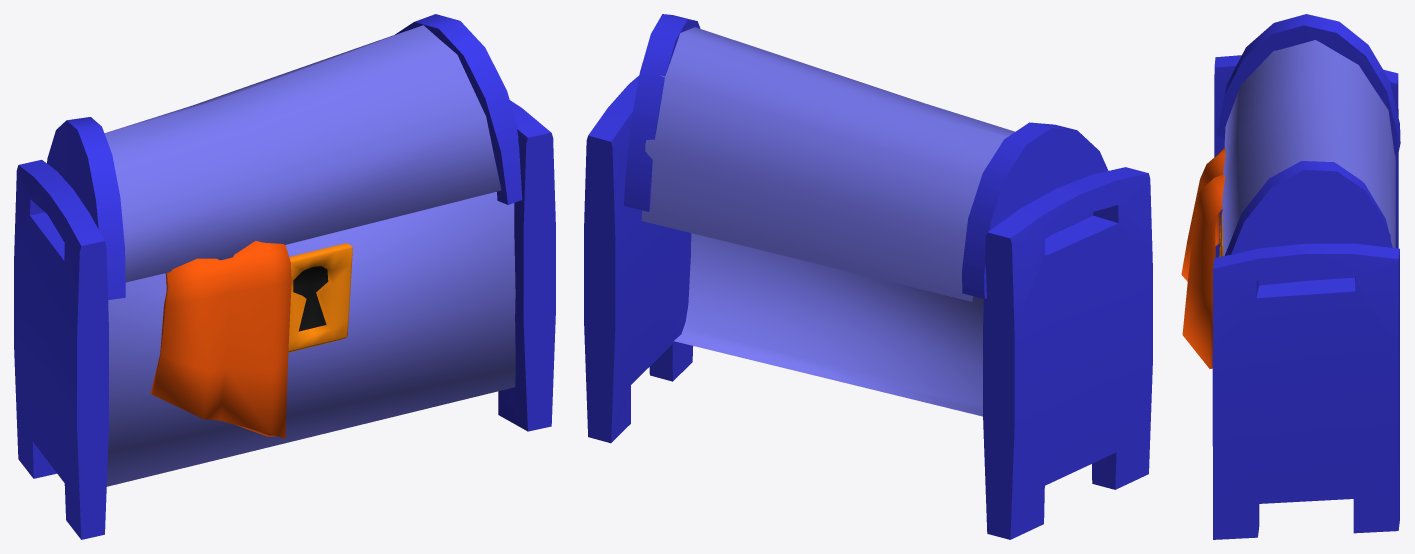
The model's file is chestclosed.FBX.
The picture shows the model from 3 angles, left to right: view 1: azimuth 30°, elevation 25°; view 2: azimuth 150°, elevation 25°; view 3: azimuth 270°, elevation 25°; orthographic projection. The views are drawn at different scales.
Parts seen in each view (by area): view 1: chestclosed; view 2: chestclosed; view 3: chestclosed.
Part boxes in pixels (bbox=[...]): chestclosed: bbox=[14, 14, 555, 539]; chestclosed: bbox=[584, 14, 1152, 539]; chestclosed: bbox=[1181, 14, 1400, 539].
Size of the model in its own units: 4.74 by 3.61 by 2.04.
